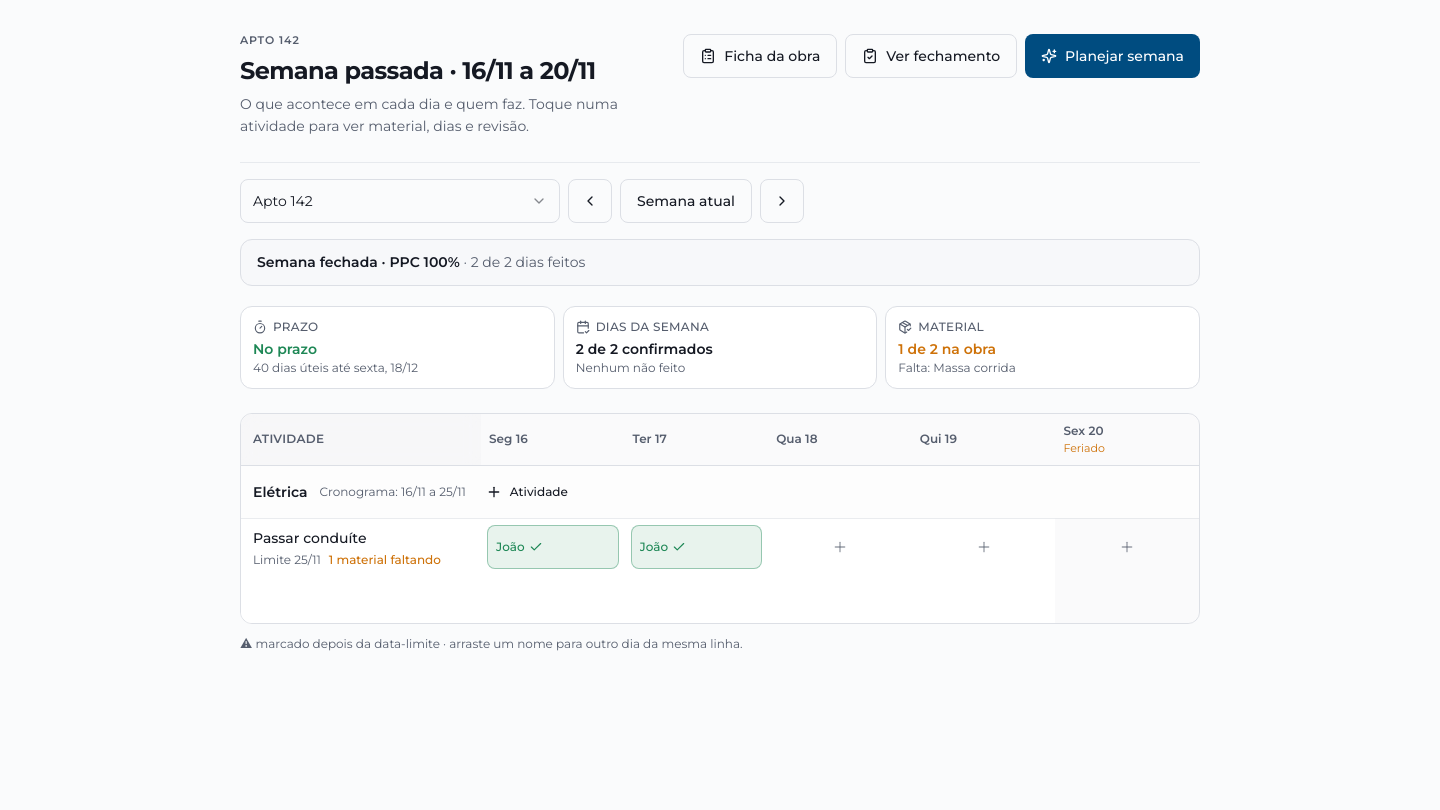
Test case: Tela Semana › fechar semana e PPC › semana fechada mostra o PPC registrado e abre o fechamento
Expected: the text "Semana fechada · PPC 100%" is shown, [257,253,460,271]
Expected: the text "· 2 de 2 dias feitos" is shown, [460,253,585,271]
Click the button "Ver fechamento" at (931, 56), box [845,34,1017,78]
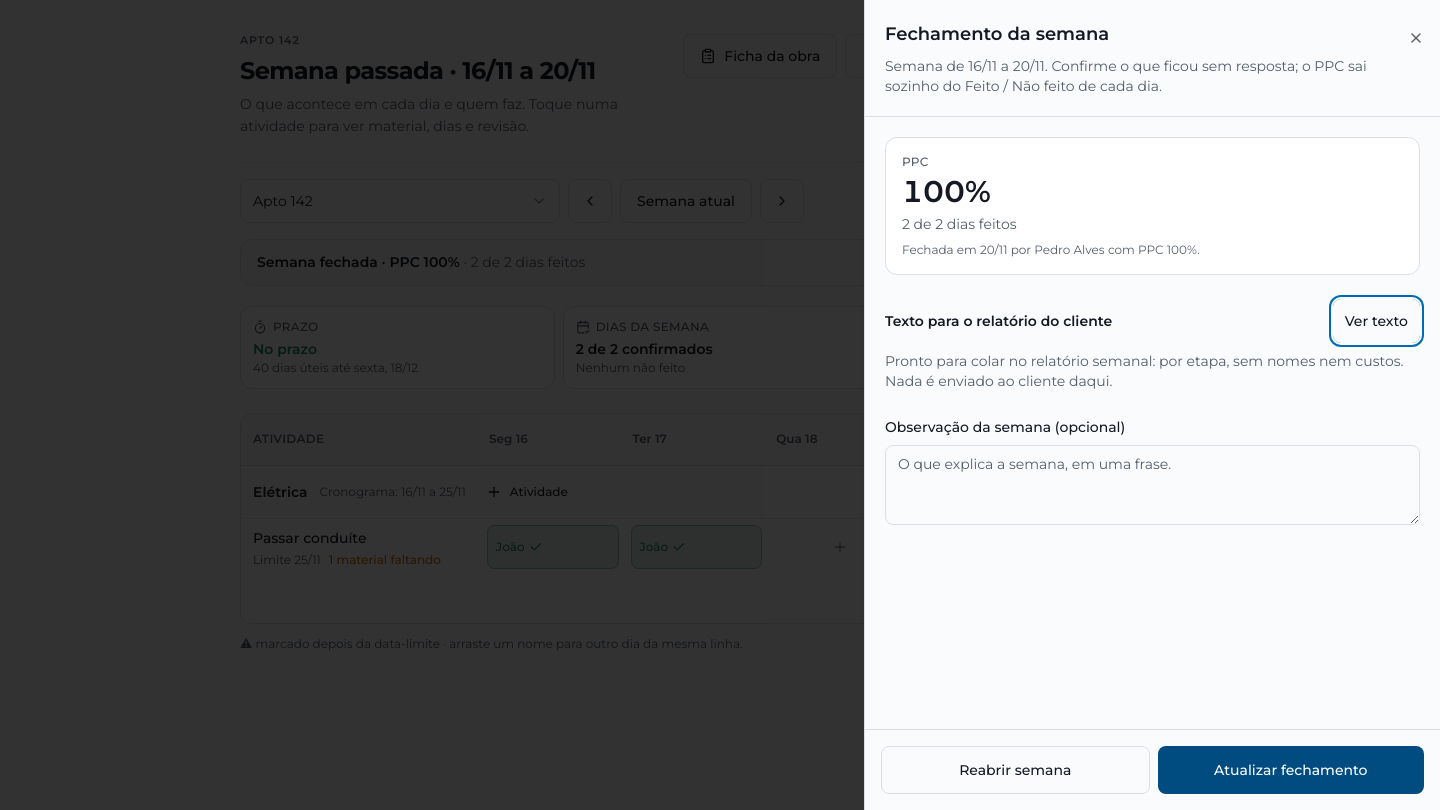
Expected: the text "Fechada em 20/11 por Pedro Alves com PPC 100%." is shown, [902,242,1200,257]
